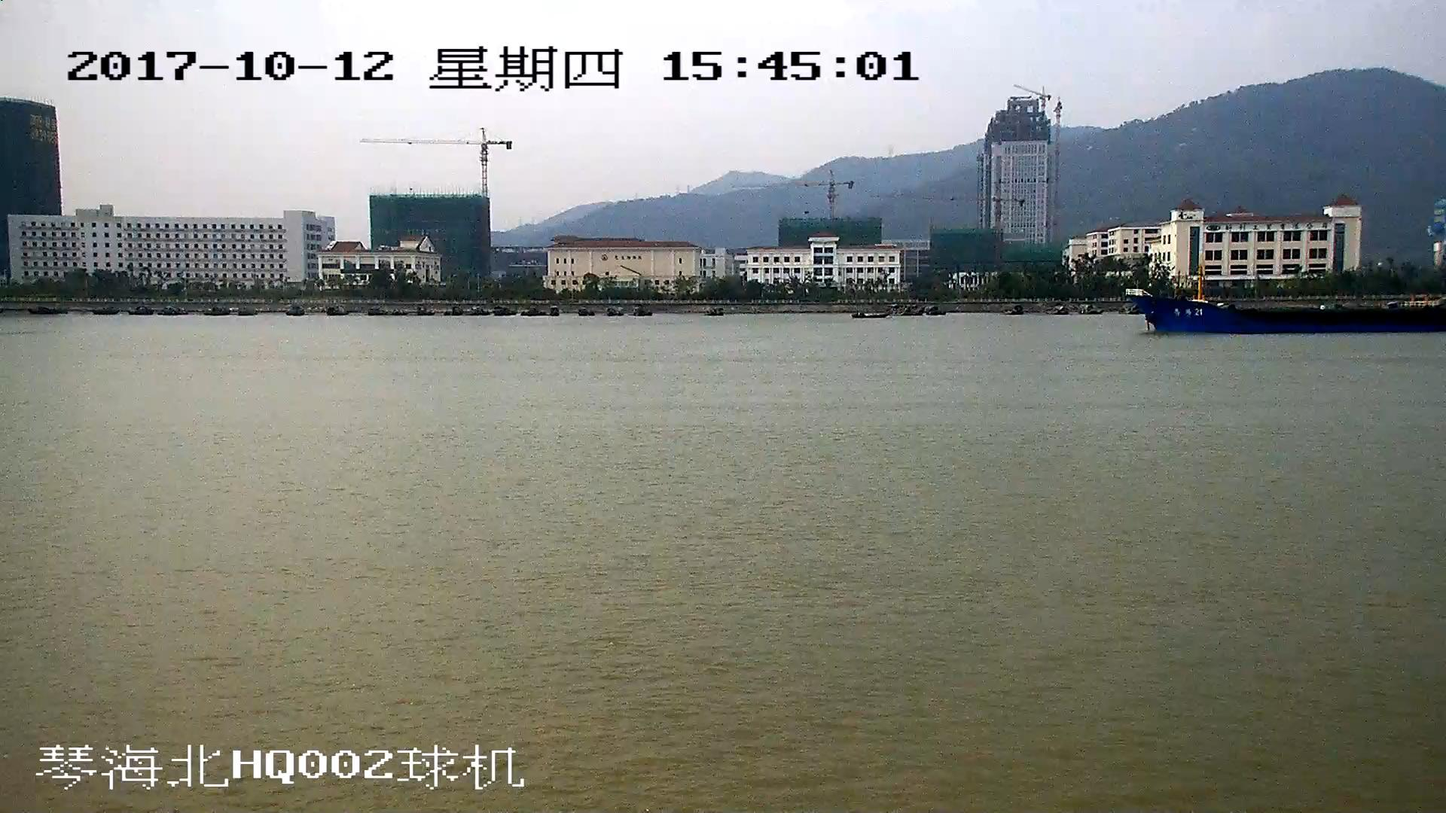general cargo ship: (1129, 285, 1445, 335)
